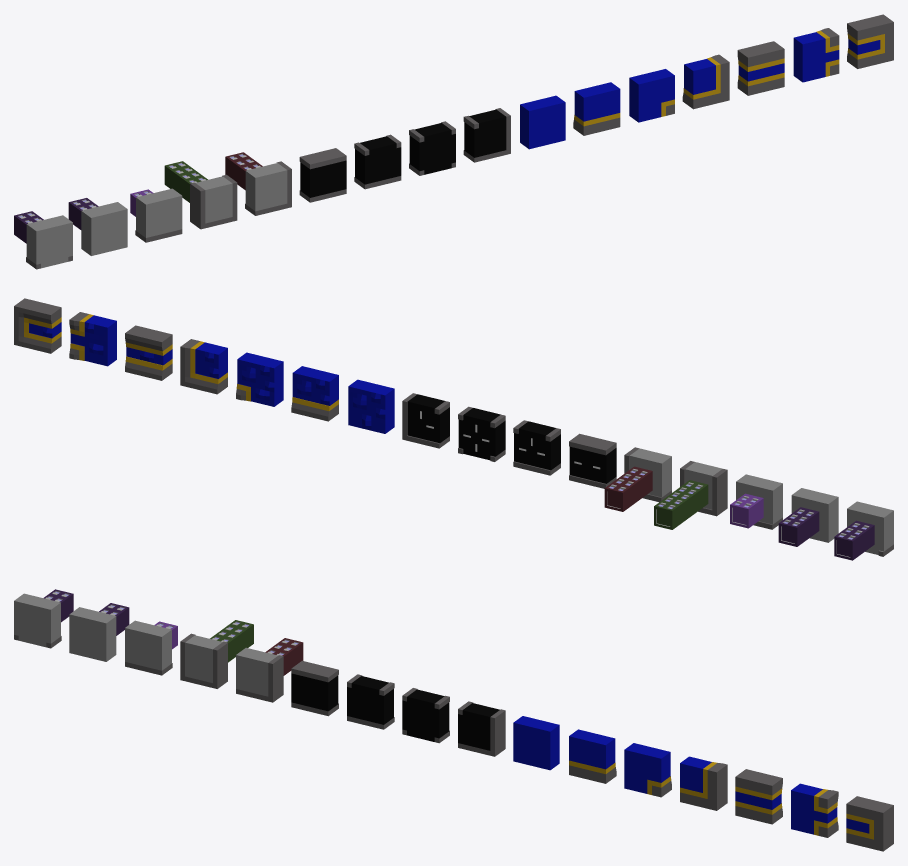
Rendered from City_Tiles.fbx.
The picture shows the model from 3 angles, top to bottom: view 1: azimuth 30°, elevation 25°; view 2: azimuth 150°, elevation 25°; view 3: azimuth 330°, elevation 25°; orthographic projection.
Parts seen in each view (by area): view 1: Build_1.003, water_river.1, road_straight_1, road_3crossroad_1, road_corner_1, road_4crossroad_1, water_end.1, Build_1.001, Build_1.002, Build_1.009, Build_1, water_corner.3 (+6 smaller); view 2: water_corner.2, road_corner_1, water_end.1, water_river.1, road_4crossroad_1, road_straight_1, road_3crossroad_1, water_straight.1, water_corner.3, water_corner.1, water_fill.1, Build_1.005 (+9 smaller); view 3: road_straight_1, water_end.1, water_river.1, Build_1.003, road_corner_1, road_4crossroad_1, Build_1.001, Build_1, water_corner.2, road_3crossroad_1, Build_1.009, Build_1.002 (+6 smaller).
Boxes of the visible parts, left/top/right/bottom form: Build_1.003: left=190, top=174, right=237, bottom=229; water_river.1: left=737, top=41, right=784, bottom=95; road_straight_1: left=299, top=148, right=346, bottom=202; road_3crossroad_1: left=354, top=134, right=401, bottom=189; road_corner_1: left=463, top=108, right=510, bottom=162; road_4crossroad_1: left=409, top=121, right=455, bottom=175; water_end.1: left=847, top=14, right=893, bottom=68; Build_1.001: left=245, top=161, right=291, bottom=215; Build_1.002: left=135, top=188, right=182, bottom=242; Build_1.009: left=26, top=215, right=72, bottom=269; Build_1: left=81, top=202, right=127, bottom=255; water_corner.3: left=793, top=28, right=839, bottom=82; water_corner.2: left=180, top=339, right=227, bottom=394; road_corner_1: left=402, top=393, right=449, bottom=448; water_end.1: left=14, top=298, right=61, bottom=353; water_river.1: left=125, top=325, right=172, bottom=380; road_4crossroad_1: left=458, top=406, right=505, bottom=461; road_straight_1: left=569, top=433, right=616, bottom=488; road_3crossroad_1: left=513, top=420, right=560, bottom=475; water_straight.1: left=291, top=366, right=338, bottom=421; water_corner.3: left=69, top=312, right=116, bottom=366; water_corner.1: left=236, top=352, right=283, bottom=406; water_fill.1: left=348, top=379, right=394, bottom=433; Build_1.005: left=654, top=480, right=708, bottom=529; road_straight_1: left=291, top=660, right=338, bottom=716; water_end.1: left=846, top=796, right=893, bottom=851; water_river.1: left=735, top=769, right=782, bottom=824; Build_1.003: left=180, top=633, right=227, bottom=688; road_corner_1: left=458, top=701, right=505, bottom=756; road_4crossroad_1: left=402, top=688, right=449, bottom=743; Build_1.001: left=236, top=647, right=283, bottom=702; Build_1: left=69, top=607, right=116, bottom=661; water_corner.2: left=680, top=756, right=727, bottom=810; road_3crossroad_1: left=347, top=674, right=394, bottom=729; Build_1.009: left=14, top=593, right=61, bottom=648; Build_1.002: left=125, top=620, right=172, bottom=675.
Size of the model in its own units: 4700 by 200 by 429.
